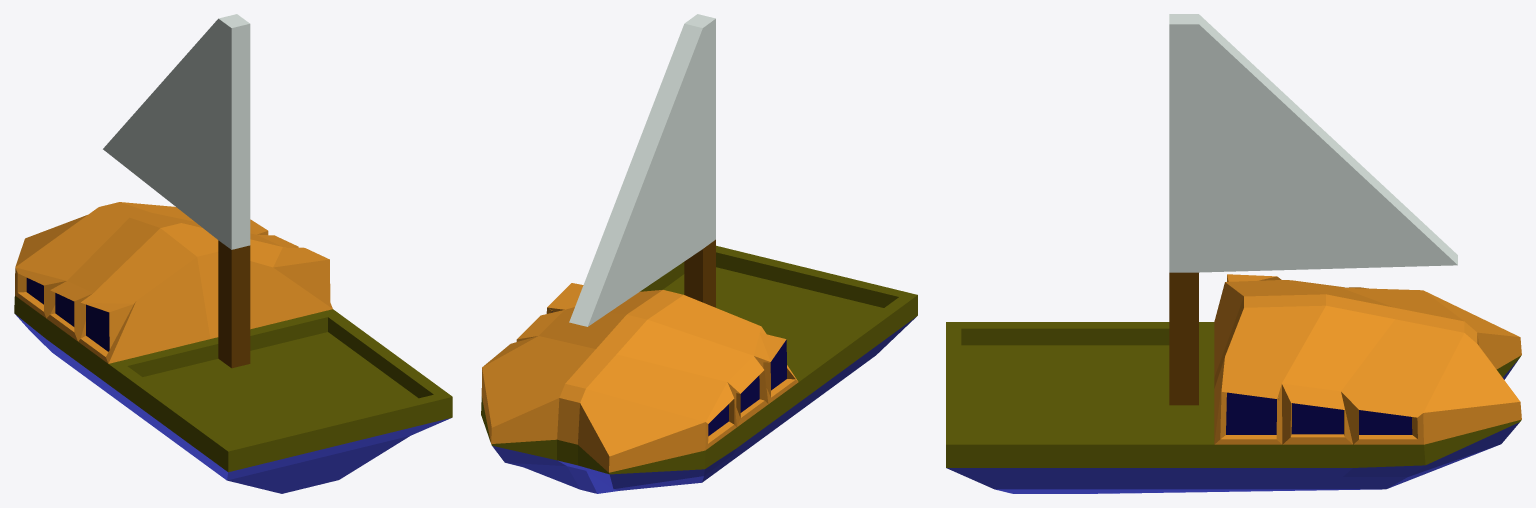
The model's file is boat.glb.
3 renders of one model, left to right at view 1: azimuth 30°, elevation 25°; view 2: azimuth 150°, elevation 25°; view 3: azimuth 270°, elevation 25°, orthographic. The views are drawn at different scales.
Visible parts, largest first — view 1: Cube; view 2: Cube; view 3: Cube.
Part boxes in pixels (bbox=[...]): Cube: bbox=[14, 14, 452, 493]; Cube: bbox=[481, 14, 917, 493]; Cube: bbox=[946, 14, 1521, 493].
Size of the model in its own units: 7.85 by 13.7 by 15.57.
